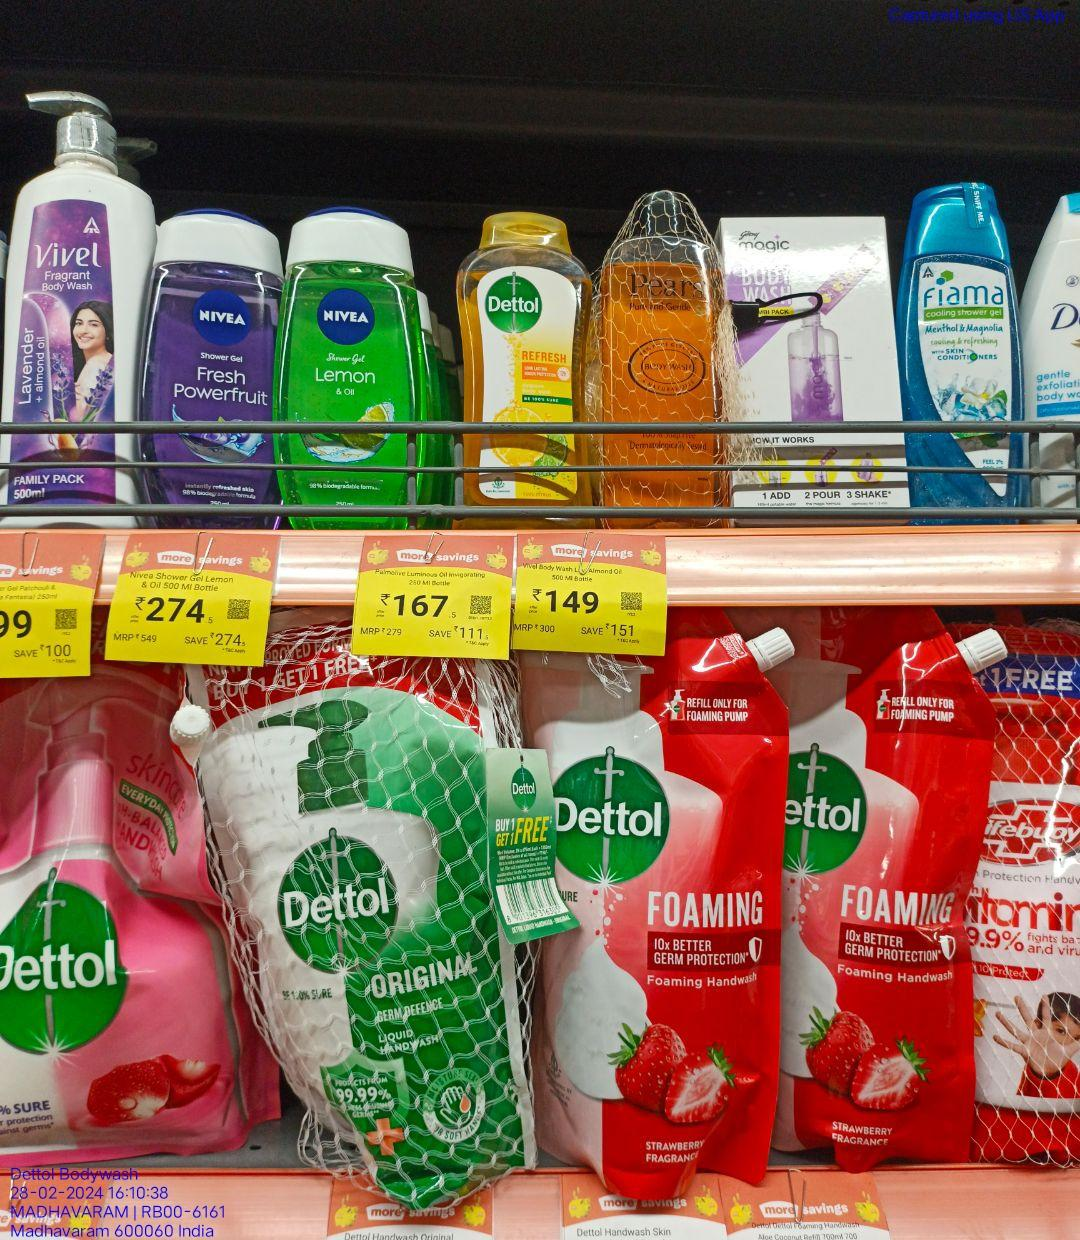Dettol_Bodywash_Refresh: (460, 208, 591, 532)
Nivea_Shower_Gel_Fresh_Powerfruit_250ML: (152, 204, 278, 530)
Nivea_Shower_Gel_Lemon_and_Oil_250ML: (286, 208, 419, 530)
